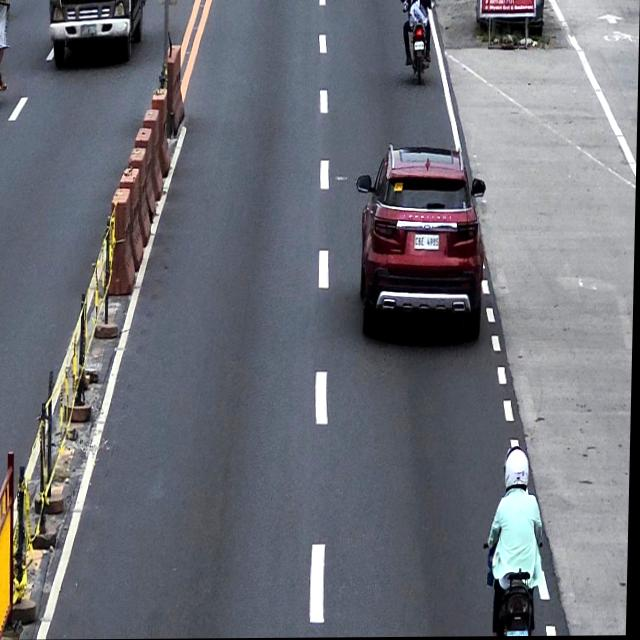Car: (354, 144, 490, 344)
License-Plate: (415, 235, 440, 251), (414, 41, 424, 51)
Motorcycle: (489, 512, 541, 637), (402, 0, 434, 84)
